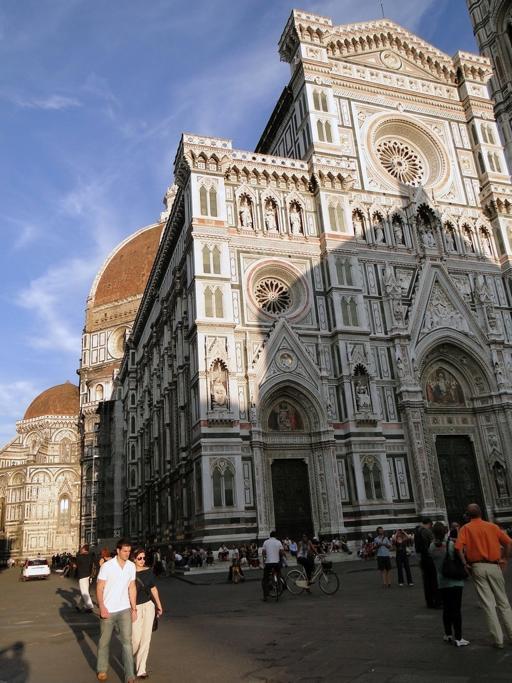non-vehicle: (284, 551, 339, 596), (267, 568, 283, 601)
